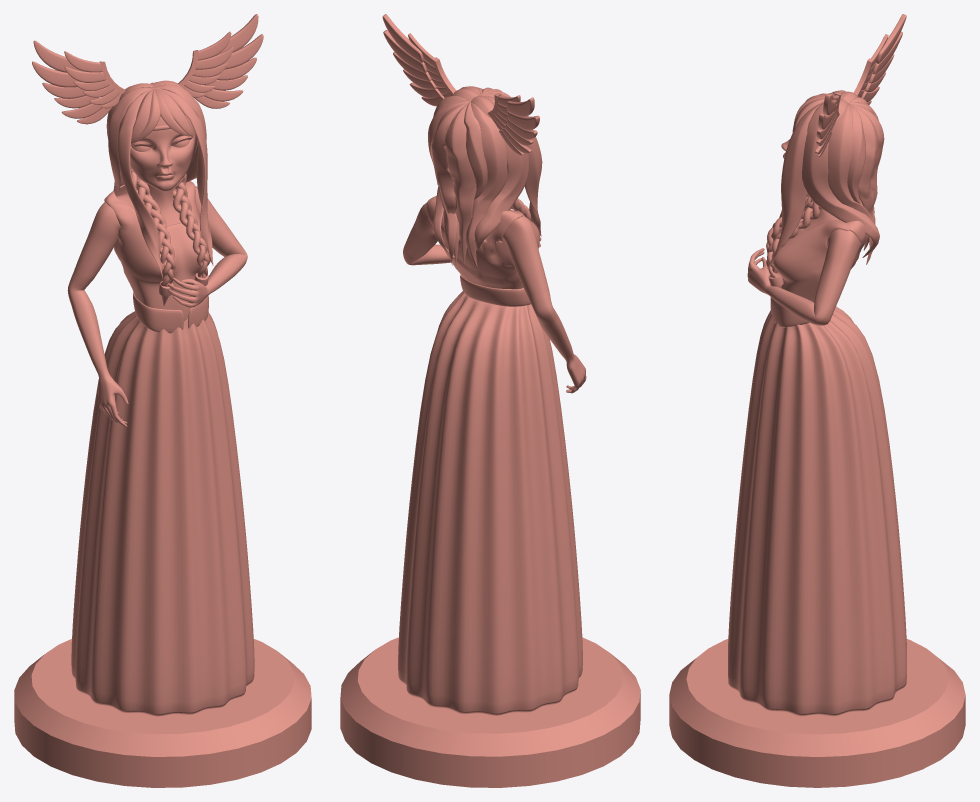
The model's file is freya posed.fbx.
3 views of the same model, side by side, from view 1: azimuth 30°, elevation 25°; view 2: azimuth 150°, elevation 25°; view 3: azimuth 270°, elevation 25° (orthographic).
Parts seen in each view (by area): view 1: dress, freya statue, feathers.006, body, NurbsPath.010, top, head.001, Plane.002, top.001, NurbsPath.005; view 2: dress, freya statue, NurbsPath.010, body, feathers.006, top, top.001; view 3: dress, freya statue, NurbsPath.010, body, top, feathers.006, Plane.002, top.001.
Boxes of the visible parts, x1,y1,x2,y2 form: dress: (71, 311, 254, 716); freya statue: (14, 639, 311, 787); feathers.006: (32, 14, 263, 124); body: (67, 174, 247, 427); NurbsPath.010: (106, 82, 213, 278); top: (104, 180, 210, 321); head.001: (130, 86, 195, 191); Plane.002: (130, 167, 209, 286); top.001: (133, 292, 208, 333); NurbsPath.005: (131, 89, 192, 143); dress: (398, 291, 582, 715); freya statue: (340, 637, 640, 787); NurbsPath.010: (428, 86, 542, 267); body: (403, 202, 586, 393); feathers.006: (382, 14, 539, 155); top: (426, 196, 539, 289); top.001: (460, 274, 530, 306); dress: (728, 306, 906, 716); freya statue: (669, 639, 965, 787); NurbsPath.010: (767, 90, 884, 268); body: (747, 199, 861, 325); top: (773, 210, 868, 302); feathers.006: (814, 14, 906, 156); Plane.002: (766, 194, 822, 277); top.001: (770, 297, 808, 327).
Bounding box in the file's own units: 74.96 × 190 × 74.96.
